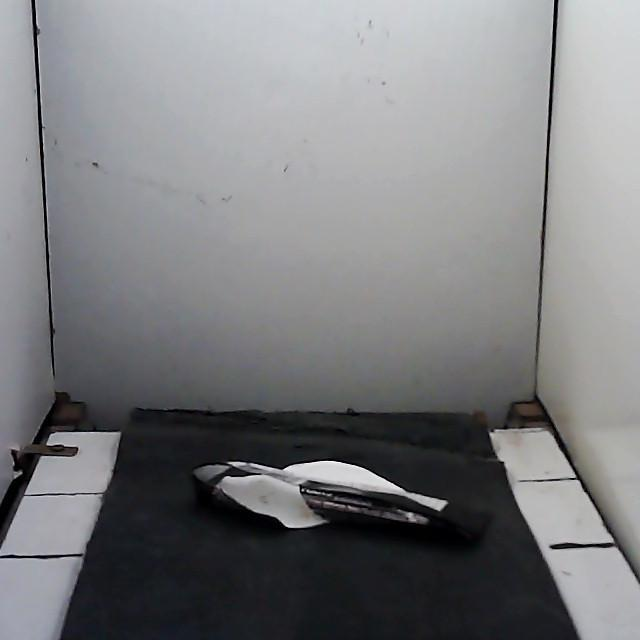plastico: (192, 461, 486, 540)
